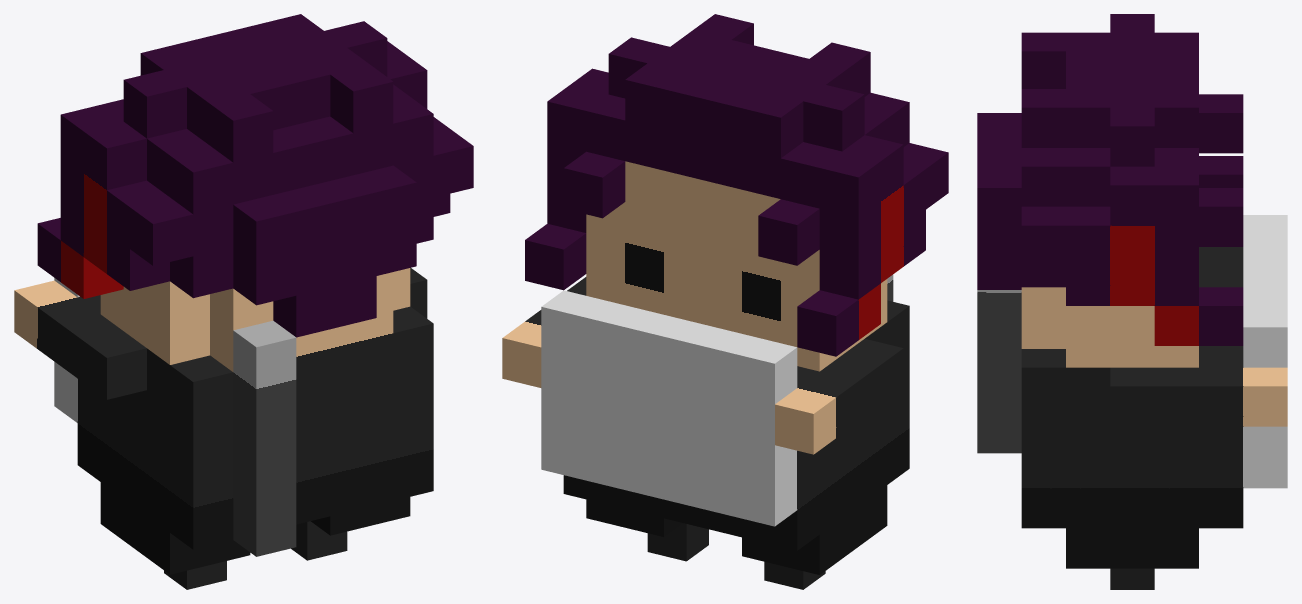
File: chr_sign2.dae
3 views of the same model, side by side, from view 1: azimuth 30°, elevation 25°; view 2: azimuth 150°, elevation 25°; view 3: azimuth 270°, elevation 25° (orthographic). The views are drawn at different scales.
Parts seen in each view (by area): view 1: chr_sign2; view 2: chr_sign2; view 3: chr_sign2.
Part boxes in pixels (left/top/right/bottom): chr_sign2: left=14, top=14, right=473, bottom=589; chr_sign2: left=502, top=14, right=948, bottom=589; chr_sign2: left=977, top=14, right=1287, bottom=589.
Bounding box in the file's own units: 0.8 × 0.7 × 1.2.
